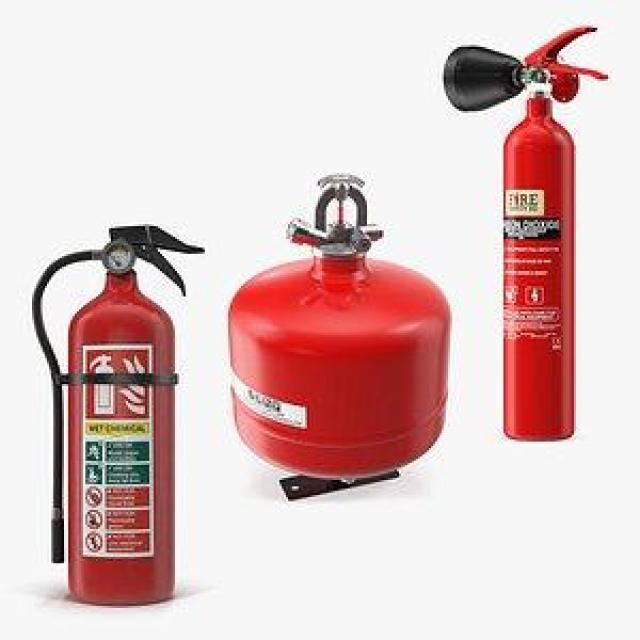fire_extinguisher: (218, 166, 458, 484), (435, 20, 612, 445), (24, 219, 211, 613)
